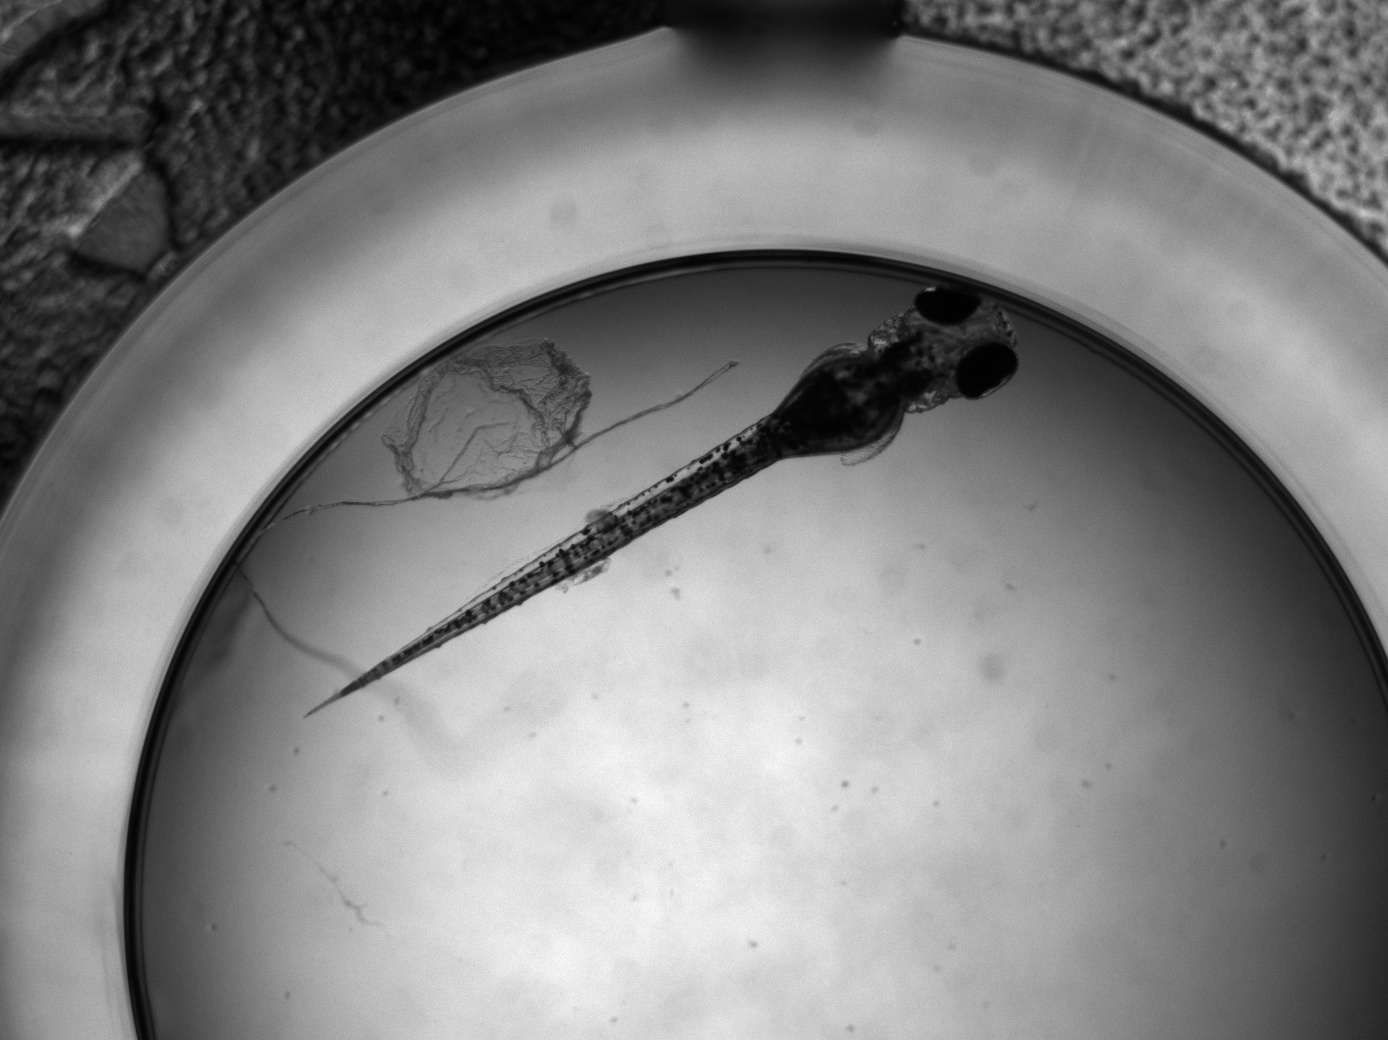debris: (380, 332, 590, 505)
embryo: (305, 281, 1021, 719)
eye: (954, 342, 1021, 400), (913, 282, 982, 326)
yolksac: (782, 356, 901, 456)
